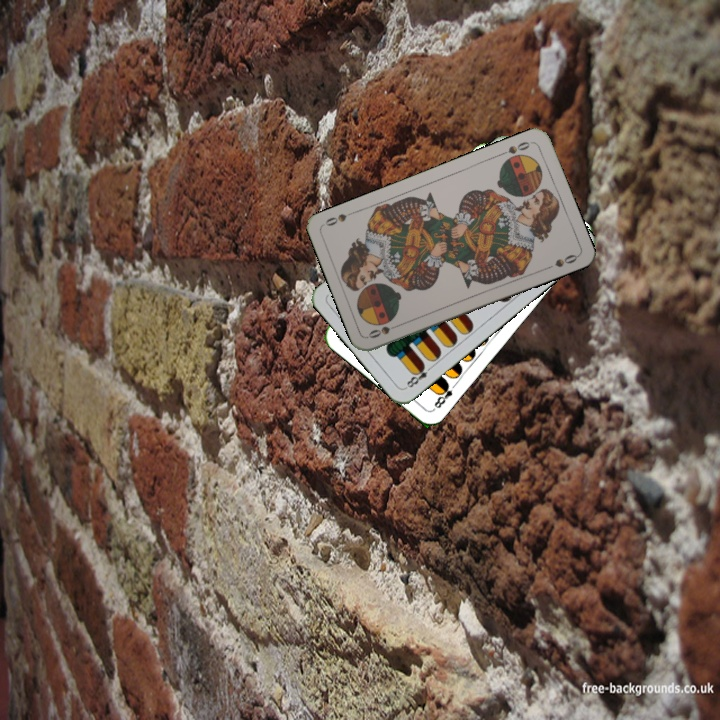E8: (401, 360, 436, 391), (429, 378, 459, 413)
SO: (364, 319, 404, 341), (496, 137, 535, 158)
